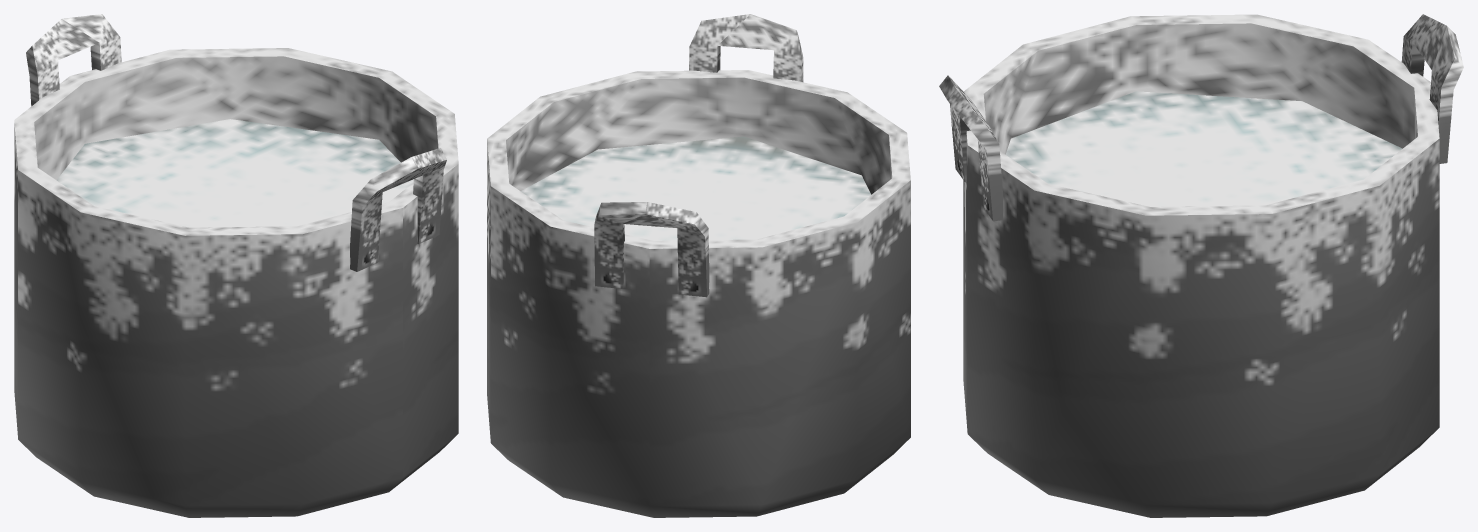
Rendered from ammomaker_PotOfBridExcrement.fbx.
3 renders of one model, left to right at view 1: azimuth 30°, elevation 25°; view 2: azimuth 150°, elevation 25°; view 3: azimuth 270°, elevation 25°, orthographic. The views are drawn at different scales.
Parts seen in each view (by area): view 1: ammomaker_PotOfBridExcrement; view 2: ammomaker_PotOfBridExcrement; view 3: ammomaker_PotOfBridExcrement.
Boxes of the visible parts, box(x1,y1,x2,y2) form: ammomaker_PotOfBridExcrement: box(14, 14, 458, 517); ammomaker_PotOfBridExcrement: box(487, 14, 910, 517); ammomaker_PotOfBridExcrement: box(939, 14, 1463, 517).
Size of the model in its own units: 0.6198 by 0.5295 by 0.6832.
